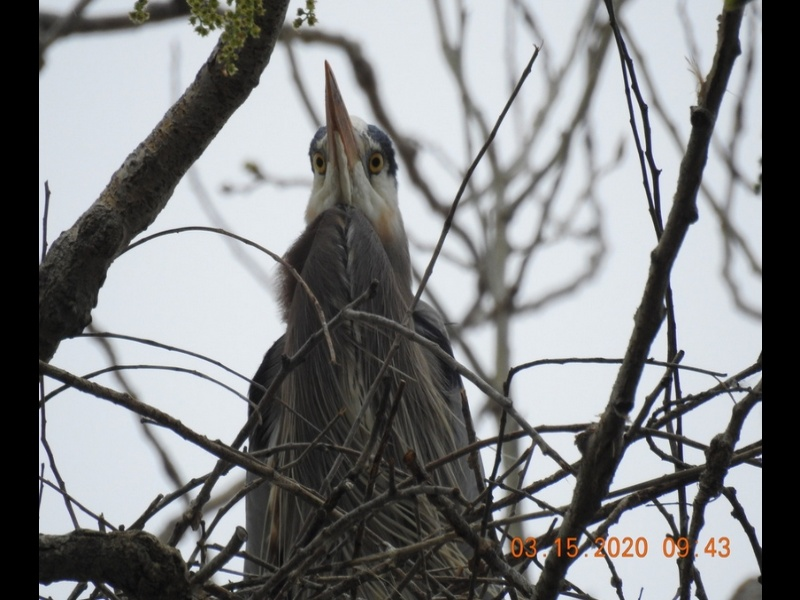heron: (238, 58, 509, 595)
